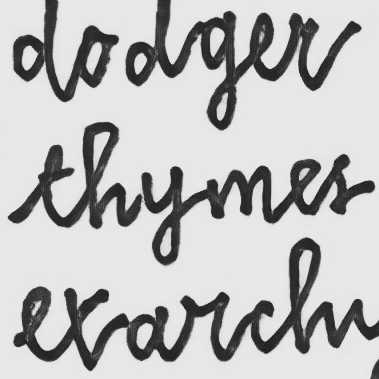e: (286, 155, 322, 217)
h: (80, 119, 129, 231)
m: (203, 163, 274, 225)
s: (325, 152, 355, 217)
t: (36, 142, 77, 230)
y: (140, 164, 186, 267)
